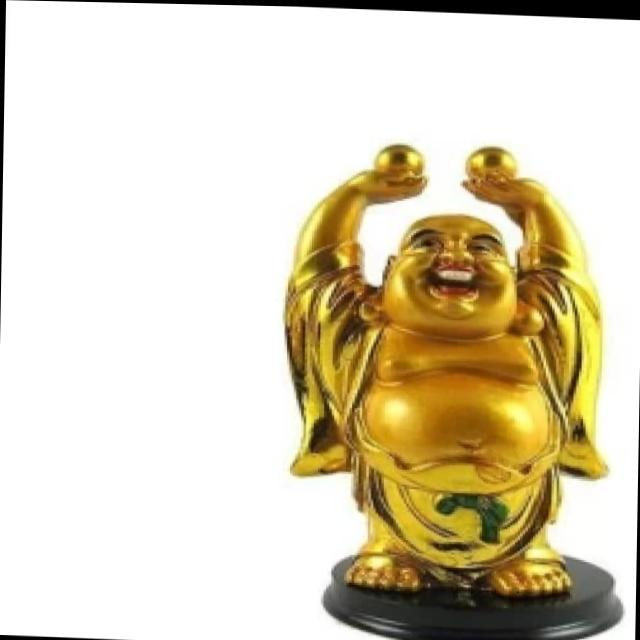Smiling Buddha: (286, 140, 606, 556)
